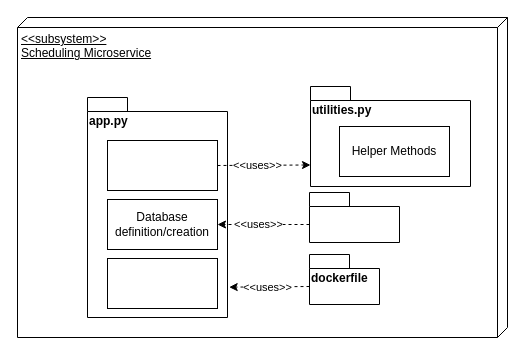
Some shapes in this 525 by 355 pixel diagram are drawn without their labels. The centre of each missing label's shape, as x and y in pixels:
API Endpoints: the point at 162,165
db_setup.py: the point at 354,217
Setup Application: the point at 162,283
